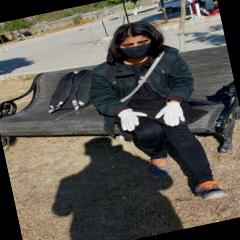gloved: (154, 98, 190, 130), (117, 106, 150, 134)
